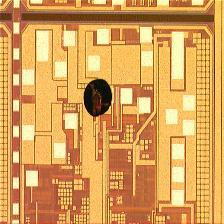PARTICLE: (83, 78, 114, 120)
